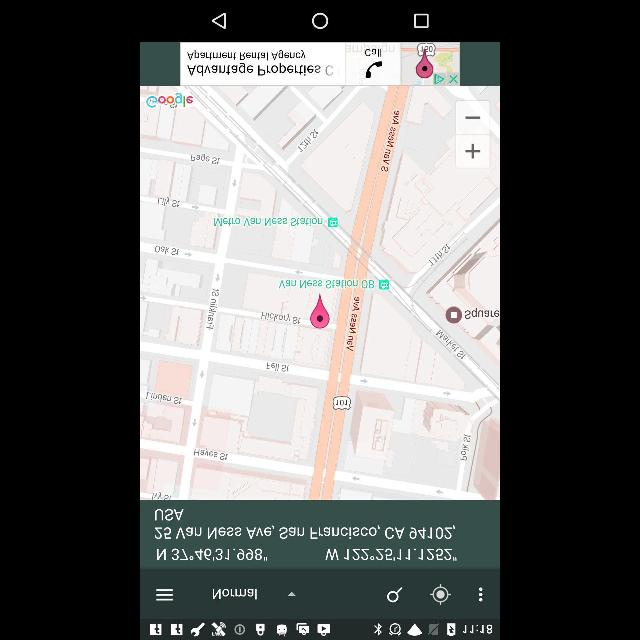icon: (458, 134, 490, 168), (457, 102, 489, 134), (430, 583, 452, 605), (312, 12, 331, 30), (386, 586, 404, 602), (212, 12, 228, 30), (413, 12, 429, 28), (155, 588, 173, 601), (478, 586, 484, 602), (286, 592, 296, 596)
iframe: (178, 43, 460, 85)
map: (140, 88, 500, 500)
panel: (142, 500, 498, 568), (142, 570, 500, 616), (141, 42, 499, 84), (140, 1, 500, 41)
text: (156, 524, 457, 540), (324, 548, 456, 562), (155, 548, 267, 562), (212, 588, 258, 600), (153, 507, 184, 521)
uppertaskbar: (141, 619, 499, 639)
